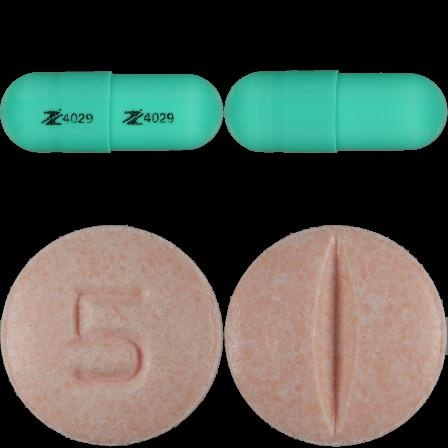35356-876: (0, 0, 224, 224)
